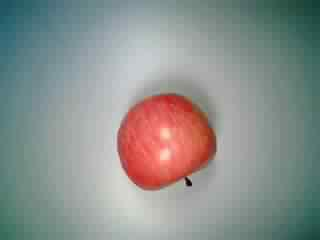apple: (116, 89, 223, 193)
